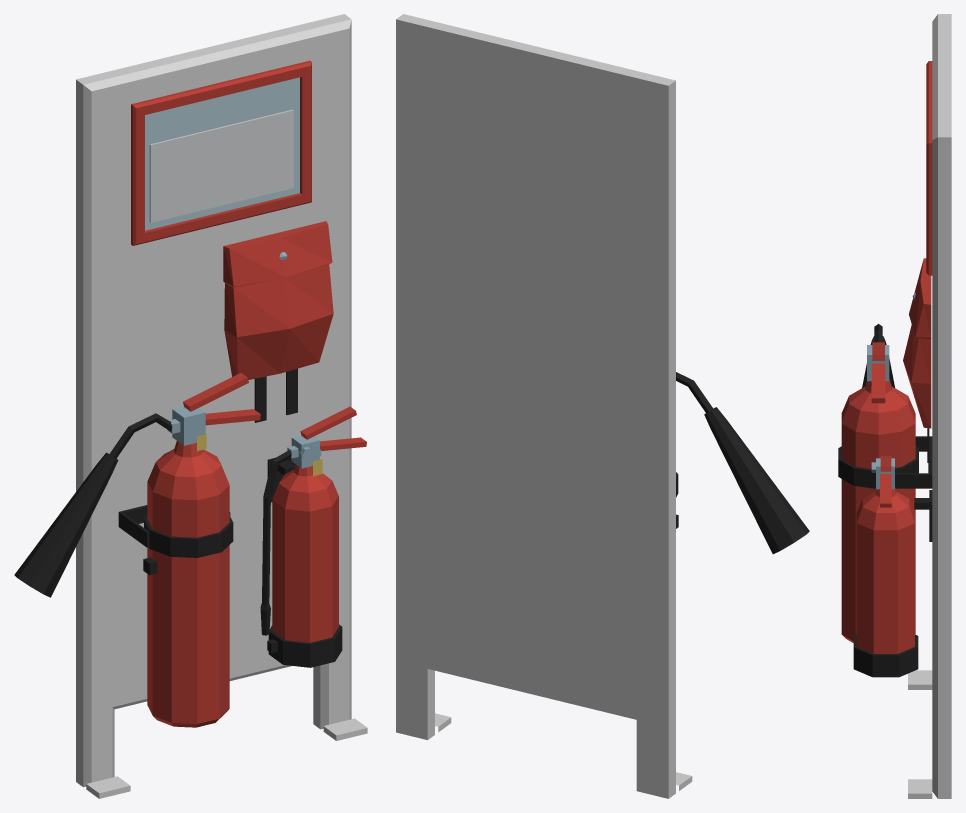
Rendered from fire-point-station-dfd230.glb.
The picture shows the model from 3 angles, left to right: view 1: azimuth 30°, elevation 25°; view 2: azimuth 150°, elevation 25°; view 3: azimuth 270°, elevation 25°; orthographic projection. The views are drawn at different scales.
Visible parts, largest first — view 1: object 5, object 1, object 3, object 4, co2-horn; view 2: object 5, co2-horn; view 3: object 5, object 3, object 1, object 4, co2-horn.
Boxes of the visible parts, <box> form: object 5: <box>76,14,367,798</box>; object 1: <box>143,373,260,727</box>; object 3: <box>260,406,366,667</box>; object 4: <box>223,221,333,422</box>; co2-horn: <box>14,413,171,597</box>; object 5: <box>396,14,692,798</box>; co2-horn: <box>676,372,809,554</box>; object 5: <box>895,14,951,798</box>; object 3: <box>853,456,918,677</box>; object 1: <box>838,342,918,642</box>; object 4: <box>903,258,931,462</box>; co2-horn: <box>862,324,894,387</box>.
Size of the model in its own units: 0.8173 by 1.5 by 0.2327.
